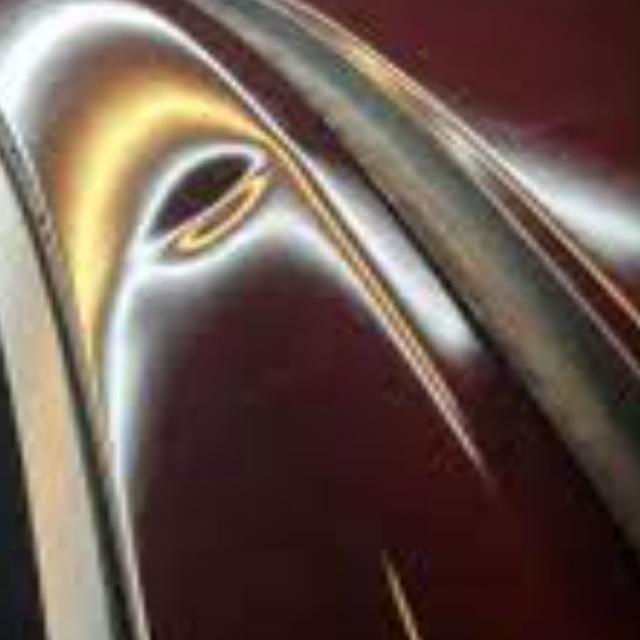dents: (134, 137, 266, 277)
